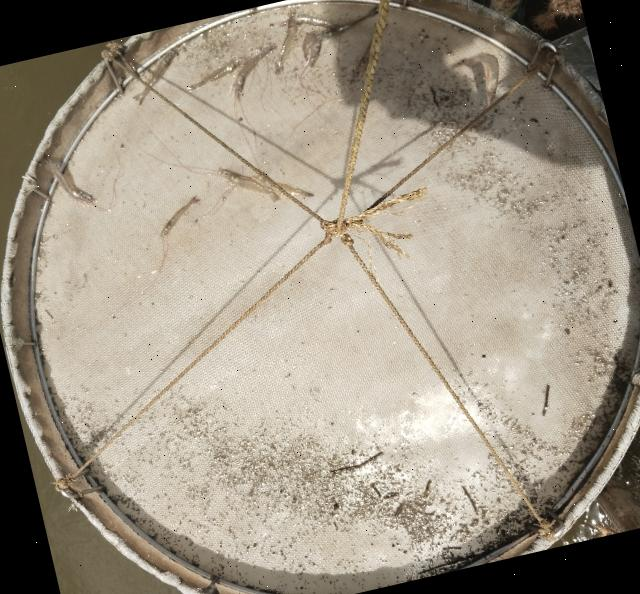shrimp: (43, 155, 96, 207), (132, 50, 178, 105), (235, 45, 277, 97), (218, 170, 279, 203), (160, 196, 199, 238), (188, 59, 240, 90), (276, 8, 296, 74)
